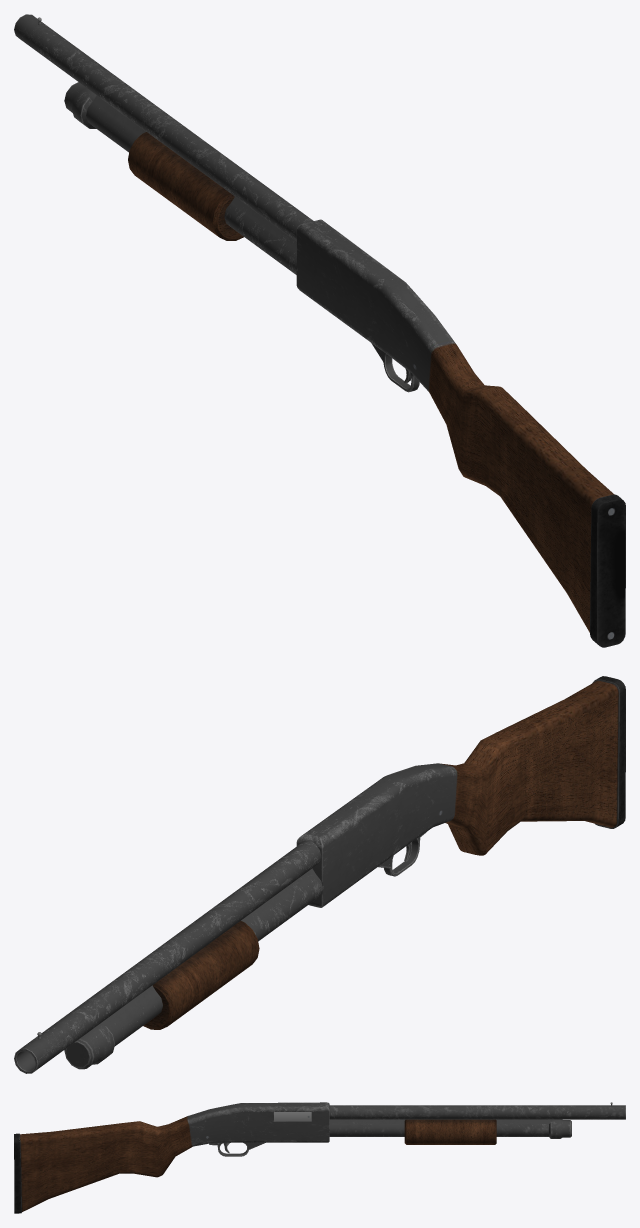
3 views of the same model, one above another, from view 1: azimuth 30°, elevation 25°; view 2: azimuth 150°, elevation 25°; view 3: azimuth 270°, elevation 25° (orthographic). The views are drawn at different scales.
Visible parts, largest first — view 1: Body, Pump; view 2: Body, Pump; view 3: Body, Pump, Bolt.
Part boxes in pixels (left/top/right/bottom): Body: left=14, top=14, right=625, bottom=647; Pump: left=128, top=132, right=243, bottom=240; Body: left=14, top=676, right=625, bottom=1073; Pump: left=143, top=921, right=259, bottom=1029; Body: left=14, top=1102, right=625, bottom=1213; Pump: left=404, top=1119, right=496, bottom=1144; Bolt: left=274, top=1112, right=311, bottom=1121.
Size of the model in its own units: 0.0562 by 0.2408 by 1.22.
Materials: 1 (1 with a texture image).
